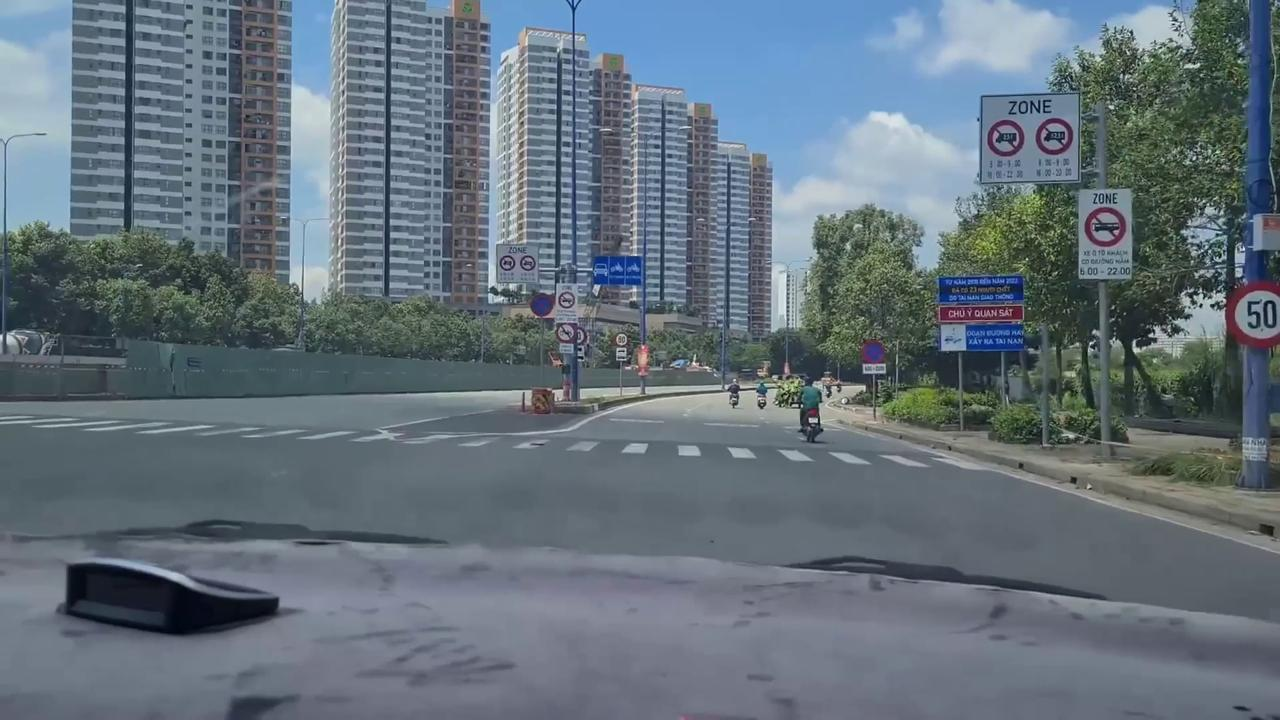Biển phụ: (862, 363, 886, 374), (615, 348, 627, 361)
Cấm cac phương tiện hoạt động trong khung giờ cố định: (976, 92, 1082, 185), (1077, 187, 1134, 281), (495, 242, 539, 284), (555, 282, 580, 322)
Cấm dừng - Cấm đỗ: (860, 337, 887, 363), (528, 292, 554, 318)
Cấm xe máy: (555, 322, 577, 344)
Giới hạn tốc độ 50Km/h: (1223, 279, 1280, 347)
Giới hạn tốc độ 80Km/h: (614, 330, 629, 348)
Khác: (934, 273, 1026, 353)
Làn đường cho từng xe: (591, 255, 644, 287)
